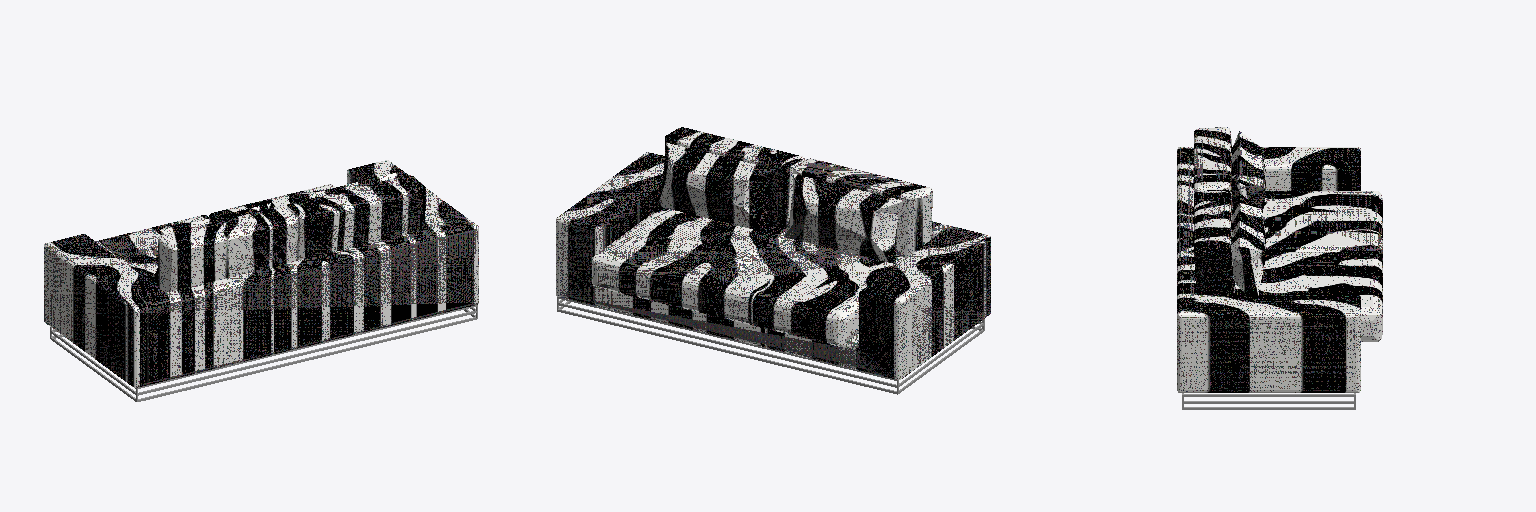
3 renders of one model, left to right at view 1: azimuth 30°, elevation 25°; view 2: azimuth 150°, elevation 25°; view 3: azimuth 270°, elevation 25°, orthographic.
Parts seen in each view (by area): view 1: mesh50_mesh50-geometry, mesh49_mesh49-geometry, mesh31_mesh31-geometry, mesh7_mesh7-geometry, mesh51_mesh51-geometry, mesh52_mesh52-geometry, mesh23_mesh23-geometry; view 2: mesh50_mesh50-geometry, mesh49_mesh49-geometry, mesh51_mesh51-geometry, mesh52_mesh52-geometry, mesh3_mesh3-geometry, mesh27_mesh27-geometry, mesh21_mesh21-geometry; view 3: mesh50_mesh50-geometry, mesh49_mesh49-geometry, mesh52_mesh52-geometry, mesh51_mesh51-geometry.
Boxes of the visible parts, x1=… form: mesh50_mesh50-geometry: x1=44, y1=160, x2=478, y2=387; mesh49_mesh49-geometry: x1=95, y1=184, x2=335, y2=285; mesh31_mesh31-geometry: x1=136, y1=317, x2=477, y2=401; mesh7_mesh7-geometry: x1=137, y1=310, x2=477, y2=395; mesh51_mesh51-geometry: x1=152, y1=203, x2=270, y2=280; mesh52_mesh52-geometry: x1=288, y1=172, x2=398, y2=203; mesh23_mesh23-geometry: x1=138, y1=305, x2=477, y2=388; mesh50_mesh50-geometry: x1=556, y1=127, x2=990, y2=379; mesh49_mesh49-geometry: x1=592, y1=207, x2=904, y2=346; mesh51_mesh51-geometry: x1=784, y1=174, x2=903, y2=263; mesh52_mesh52-geometry: x1=656, y1=142, x2=775, y2=232; mesh3_mesh3-geometry: x1=557, y1=302, x2=897, y2=387; mesh27_mesh27-geometry: x1=557, y1=309, x2=896, y2=393; mesh21_mesh21-geometry: x1=558, y1=297, x2=896, y2=380; mesh50_mesh50-geometry: x1=1177, y1=127, x2=1360, y2=392; mesh49_mesh49-geometry: x1=1235, y1=191, x2=1382, y2=341; mesh52_mesh52-geometry: x1=1231, y1=193, x2=1265, y2=294; mesh51_mesh51-geometry: x1=1231, y1=131, x2=1265, y2=212.
Size of the model in its own units: 0.8408 by 0.3242 by 0.4335.
4 materials, 2 textured.